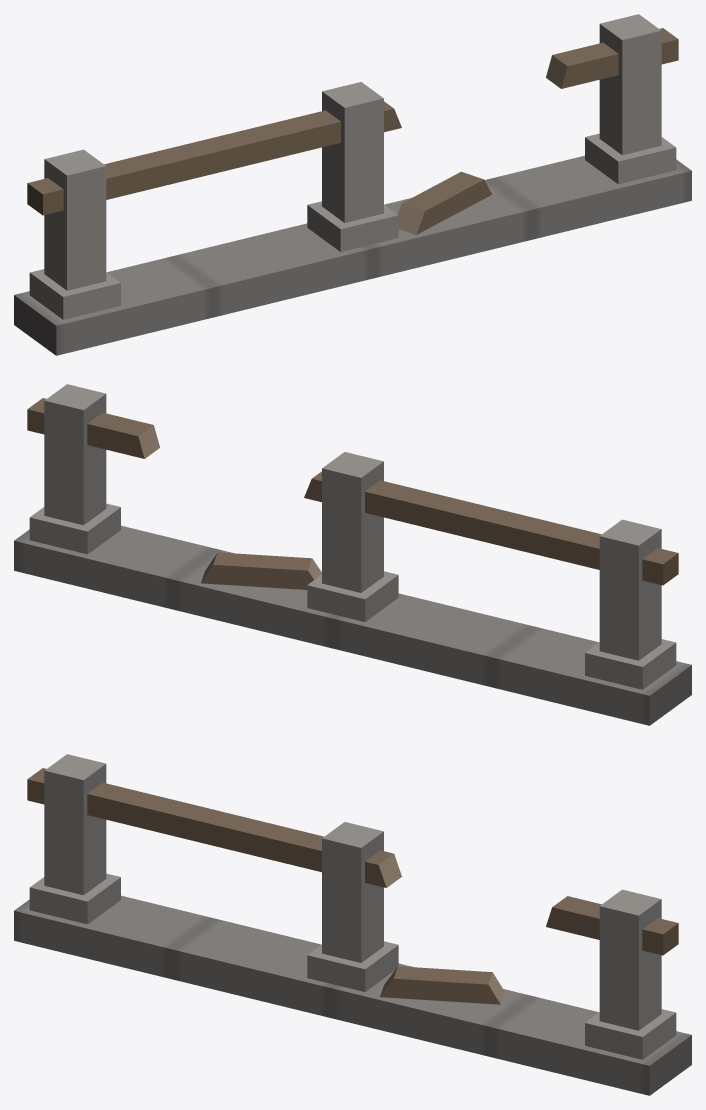
File: SD_Env_Railing_Wood_02.fbx
3 renders of one model, top to bottom at view 1: azimuth 30°, elevation 25°; view 2: azimuth 150°, elevation 25°; view 3: azimuth 330°, elevation 25°, orthographic.
Visible parts, largest first — view 1: SD_Env_Railing_Wood_02; view 2: SD_Env_Railing_Wood_02; view 3: SD_Env_Railing_Wood_02.
Boxes of the visible parts, box(x1,y1,x2,y2) form: SD_Env_Railing_Wood_02: box(14, 14, 691, 355); SD_Env_Railing_Wood_02: box(14, 384, 691, 725); SD_Env_Railing_Wood_02: box(14, 754, 691, 1095).
Size of the model in its own units: 5 by 1.26 by 0.5761.
